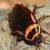cockroach: (13, 3, 44, 46)
